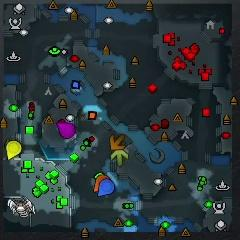p1: (97, 178, 116, 197)
p3: (56, 121, 76, 140)
p4: (6, 141, 23, 160)
p5: (93, 174, 109, 192)
x2: (109, 147, 129, 167)
x5: (109, 134, 126, 151)
